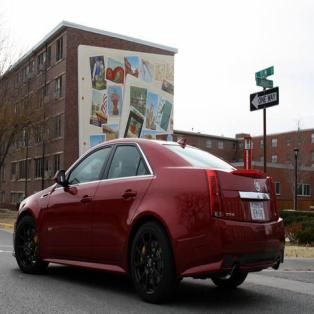Auto: (13, 136, 285, 302)
